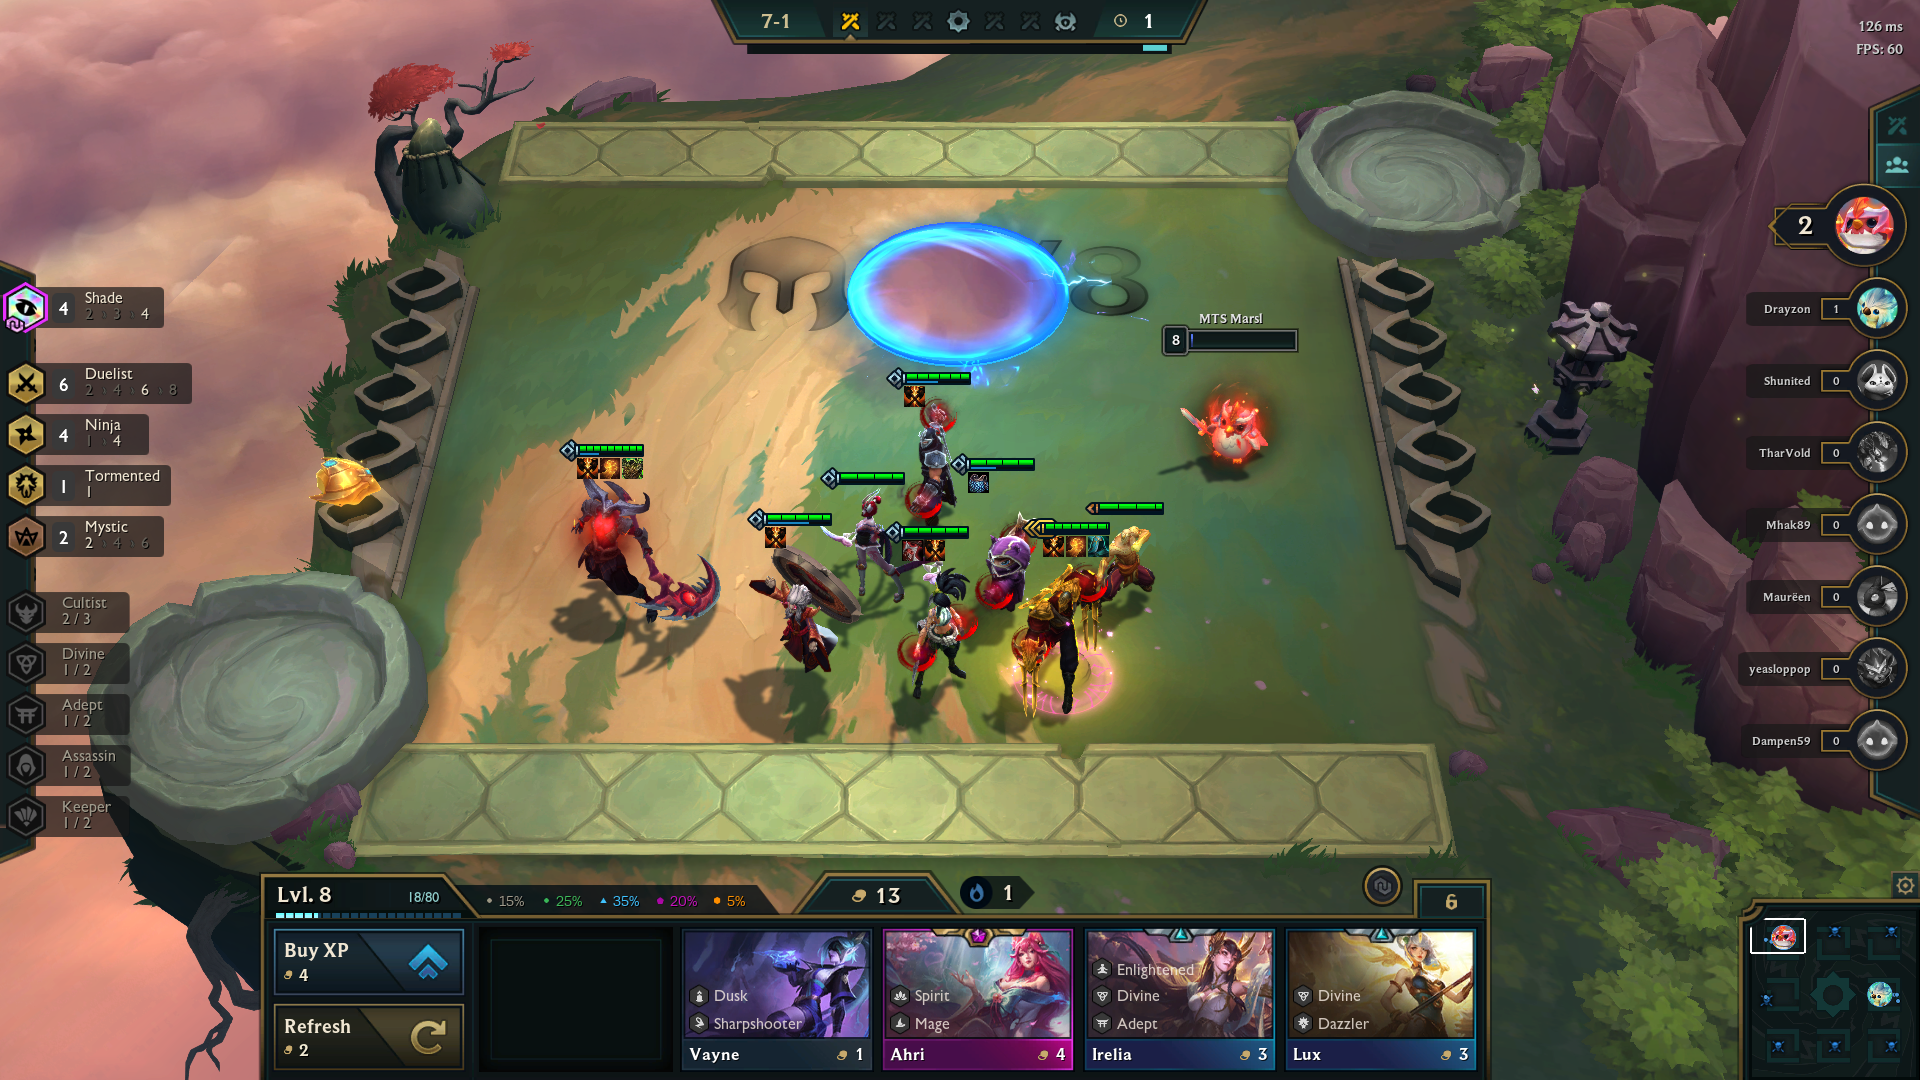1star_leesin: (1073, 492, 1174, 644)
2star_akali: (872, 516, 982, 738)
2star_evelynn: (808, 465, 920, 630)
2star_kayn_red: (537, 419, 736, 676)
2star_kennen: (939, 444, 1052, 655)
2star_shen: (881, 355, 993, 567)
2star_zilean: (707, 491, 869, 745)
3star_zed: (986, 512, 1124, 738)
item_chain: (964, 465, 993, 496)
item_duelist: (918, 531, 953, 570), (1036, 529, 1072, 562), (760, 521, 791, 554), (574, 451, 604, 485), (897, 381, 928, 411)
item_hoj: (1063, 530, 1093, 560), (597, 451, 626, 483)
item_quicksilver: (1084, 527, 1118, 562)
item_warmogs: (616, 450, 649, 484)
item_zeke: (898, 535, 928, 567)
trait_adept1: (1, 680, 203, 736)
trait_assassin1: (1, 735, 203, 789)
trait_cultist2: (1, 584, 203, 640)
trait_divine1: (1, 633, 203, 688)
trait_duelist6: (1, 353, 203, 409)
trait_keeper1: (1, 787, 203, 843)
trait_mystic2: (1, 509, 203, 564)
trait_ninja4: (1, 407, 203, 463)
trait_shade4: (1, 280, 203, 335)
trait_shade_chosen: (1, 272, 58, 338)
trait_tormented1: (1, 454, 203, 508)
